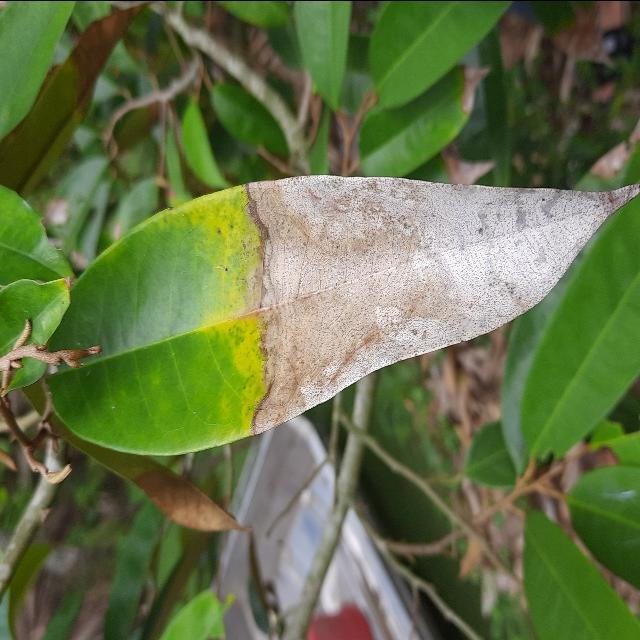Leaf Blight: (29, 160, 640, 471)
